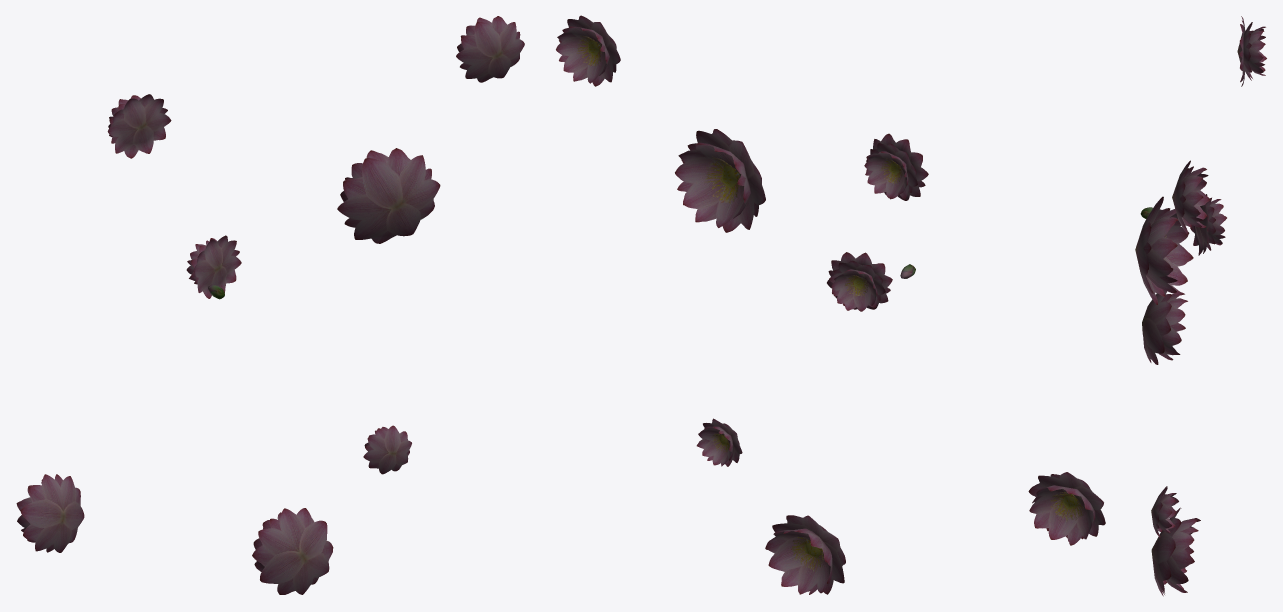
File: TD_hehua_hua.FBX
3 views of the same model, side by side, from view 1: azimuth 30°, elevation 25°; view 2: azimuth 150°, elevation 25°; view 3: azimuth 270°, elevation 25° (orthographic). The views are drawn at different scales.
Visible parts, largest first — view 1: Mesh_0052; view 2: Mesh_0052; view 3: Mesh_0052.
Part boxes in pixels (bbox=[...]): Mesh_0052: bbox=[16, 16, 524, 594]; Mesh_0052: bbox=[556, 15, 1105, 594]; Mesh_0052: bbox=[1135, 16, 1266, 596].
Size of the model in its own units: 372 by 356 by 80.58.
Materials: 1 (1 with a texture image).
